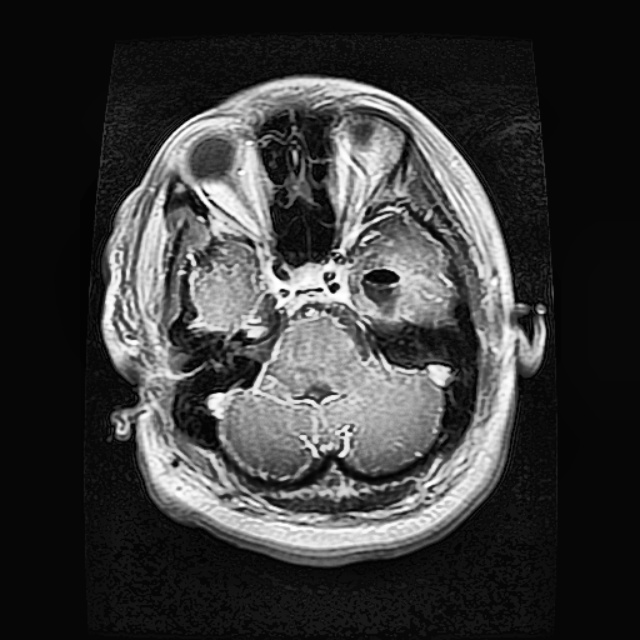Glioma: (357, 268, 403, 318)
